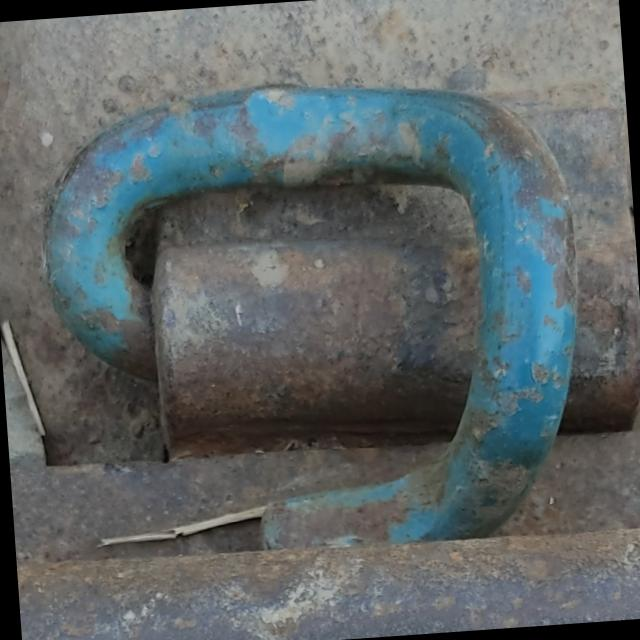track_bolt: (24, 58, 600, 564)
